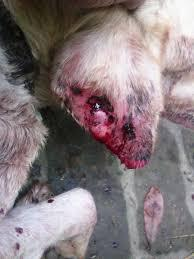bleeding: (71, 86, 142, 165)
